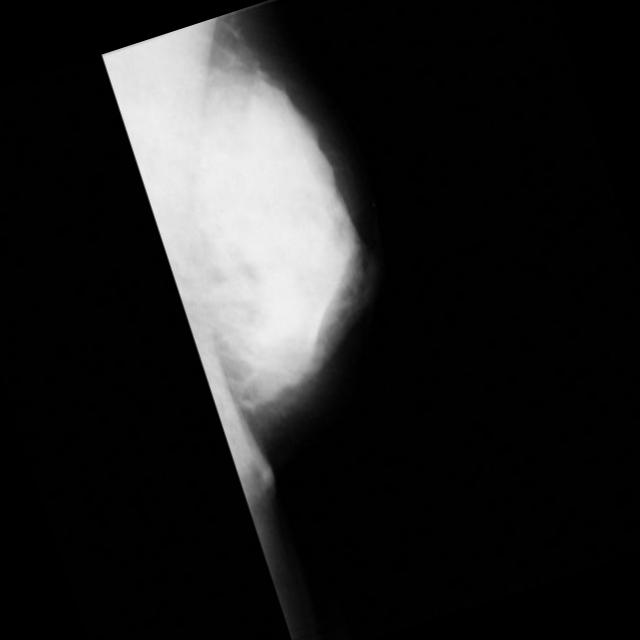SPIC: (214, 283, 320, 389)
